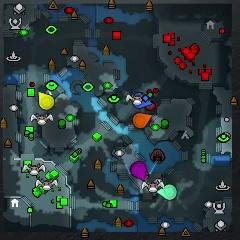p1: (133, 92, 152, 109)
p2: (156, 184, 177, 201)
p3: (130, 161, 147, 182)
p4: (38, 91, 55, 110)
p5: (132, 113, 152, 130)
